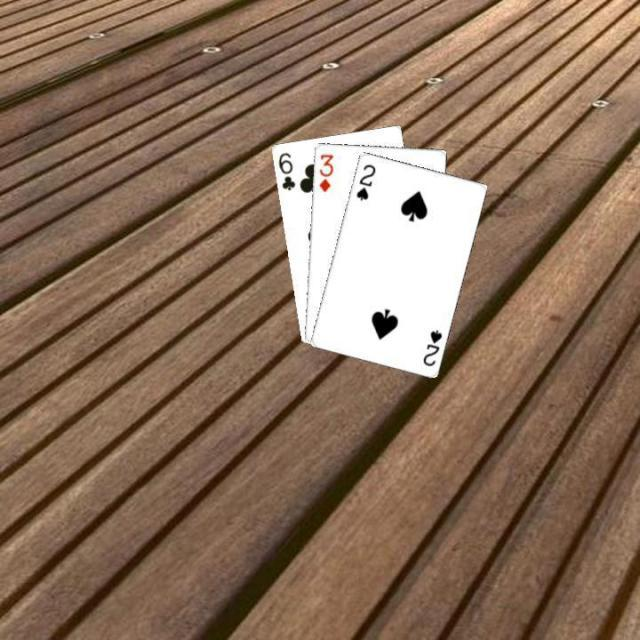2S: (418, 325, 444, 368), (352, 160, 377, 203)
3D: (314, 150, 336, 194)
6C: (274, 148, 297, 192)
